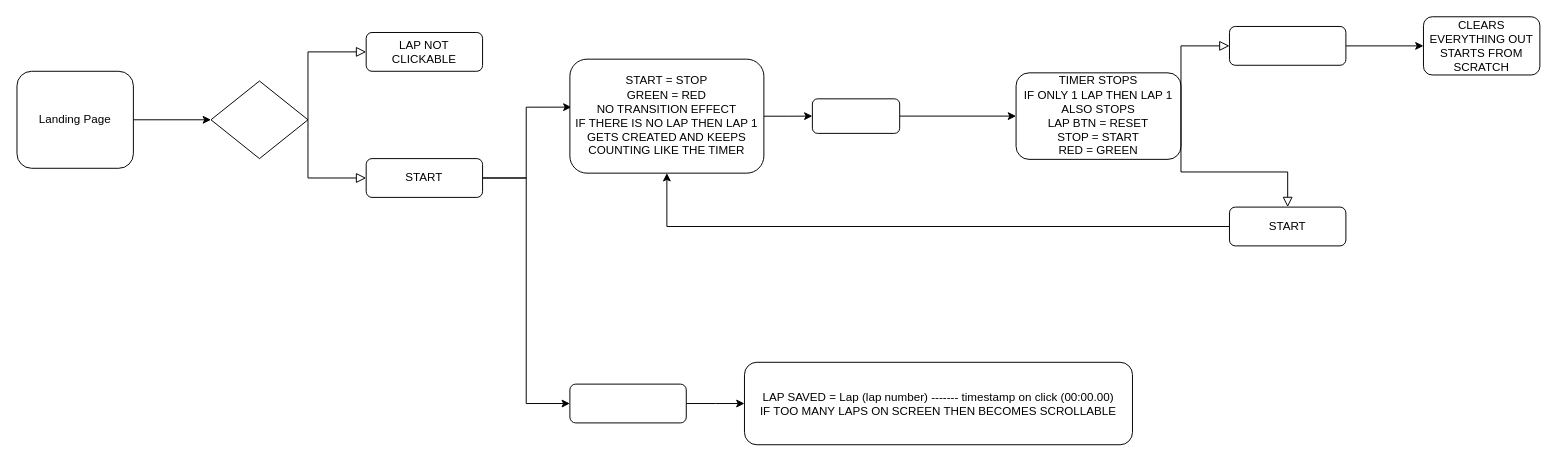
The diagram is 1557 pixels wide and 463 high, and some of its shapes have lost their labels. Here are the shapes that lost their labels. From the top down, the box of each, then its label:
(1229, 26, 1346, 65): RESET
(210, 80, 308, 159): TIMER ON 0
(811, 98, 900, 133): STOP
(569, 383, 686, 423): LAP BUTTON NOW CLICKABLE
